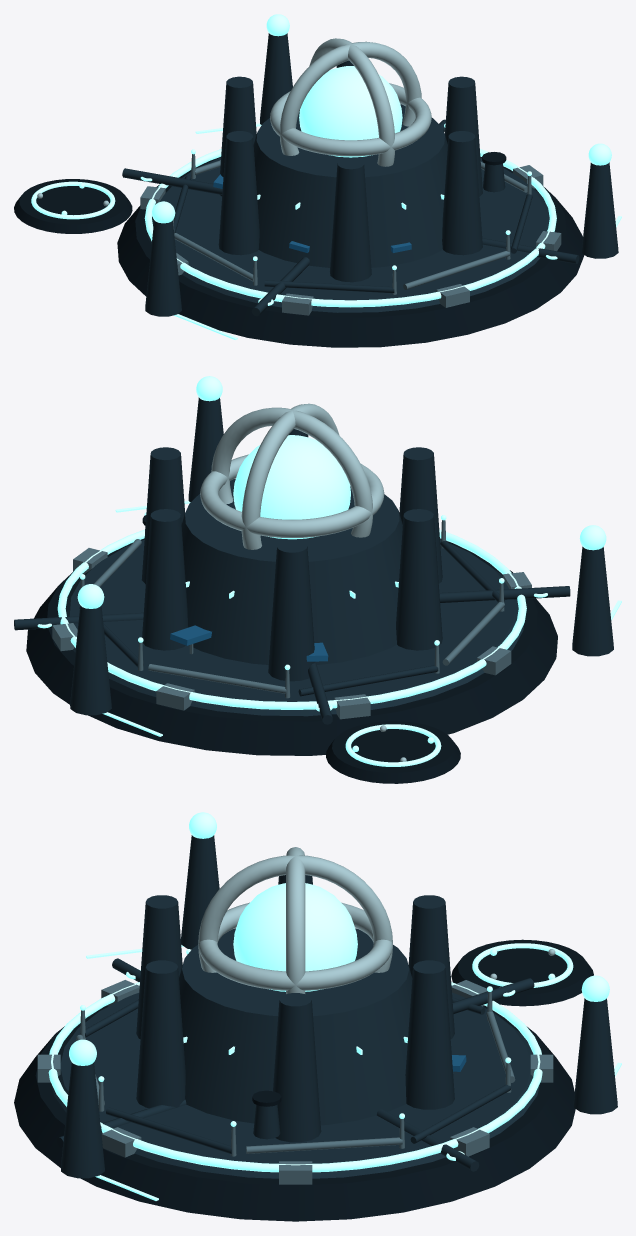
Rendered from fusionReactor-stage2.glb.
3 renders of one model, top to bottom at view 1: azimuth 30°, elevation 25°; view 2: azimuth 150°, elevation 25°; view 3: azimuth 270°, elevation 25°, orthographic. The views are drawn at different scales.
Parts seen in each view (by area): view 1: containment-vault, armored-foundation, upper-deck, fusion-core, landing-pad, coolant-tower-2, coolant-tower-3, coolant-tower-1, perimeter-light, containment-ring-x, containment-ring-y, energy-pylon-1 (+15 smaller); view 2: containment-vault, upper-deck, armored-foundation, fusion-core, landing-pad, coolant-tower-3, coolant-tower-4, coolant-tower-5, perimeter-light, containment-ring-x, containment-ring-y, energy-pylon-1 (+20 smaller); view 3: containment-vault, armored-foundation, upper-deck, fusion-core, coolant-tower-5, coolant-tower-1, coolant-tower-0, perimeter-light, landing-pad, containment-ring-z, containment-ring-y, energy-pylon-2 (+19 smaller).
Part boxes in pixels (x1,y1,x2,y2): containment-vault: (253, 104, 447, 267); armored-foundation: (117, 156, 584, 347); upper-deck: (147, 157, 554, 312); fusion-core: (299, 66, 402, 157); landing-pad: (14, 179, 132, 233); coolant-tower-2: (330, 158, 371, 282); coolant-tower-3: (218, 131, 259, 255); coolant-tower-1: (442, 131, 482, 255); perimeter-light: (144, 149, 556, 307); containment-ring-x: (280, 41, 421, 155); containment-ring-y: (270, 83, 431, 156); energy-pylon-1: (145, 220, 181, 316); containment-vault: (181, 478, 402, 664); upper-deck: (65, 539, 523, 716); armored-foundation: (26, 538, 557, 755); fusion-core: (233, 435, 350, 539); landing-pad: (326, 721, 460, 783); coolant-tower-3: (396, 509, 442, 650); coolant-tower-4: (268, 540, 314, 681); coolant-tower-5: (142, 509, 187, 650); perimeter-light: (57, 529, 526, 709); containment-ring-x: (211, 407, 372, 537); containment-ring-y: (200, 454, 384, 537); energy-pylon-1: (572, 546, 613, 656); containment-vault: (179, 928, 412, 1125); armored-foundation: (14, 1005, 575, 1221); upper-deck: (51, 992, 540, 1178); fusion-core: (233, 883, 357, 991); coolant-tower-5: (405, 960, 454, 1109); coolant-tower-1: (136, 960, 185, 1107); coolant-tower-0: (273, 993, 321, 1142); perimeter-light: (48, 982, 542, 1172); landing-pad: (451, 939, 593, 1006); containment-ring-z: (198, 855, 392, 972); containment-ring-y: (198, 902, 392, 990); energy-pylon-2: (573, 998, 617, 1114).
Size of the model in its own units: 10.85 by 4.67 by 10.44.
